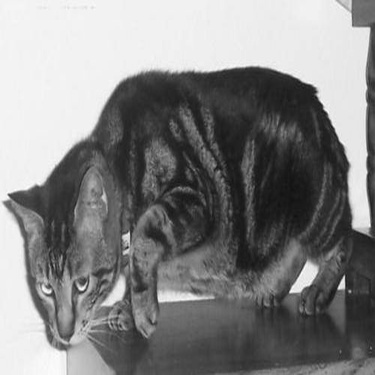cat: (1, 71, 352, 341)
